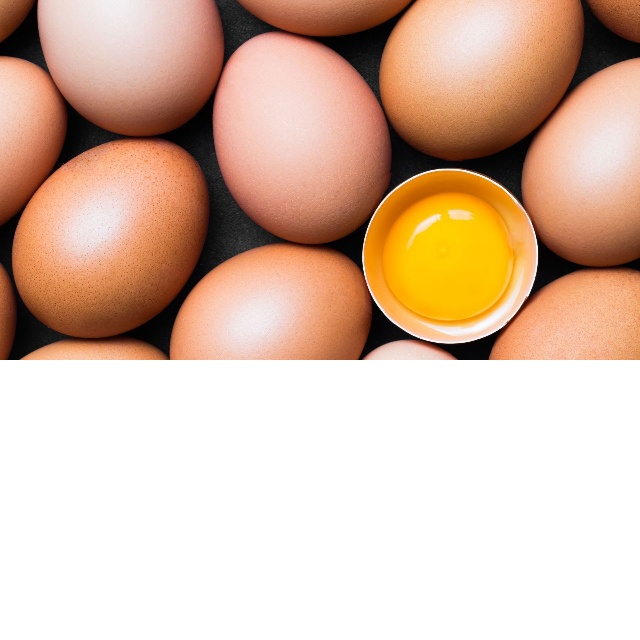mit: (6, 133, 211, 340), (208, 29, 393, 249), (376, 2, 584, 164), (33, 1, 227, 141), (517, 52, 640, 268), (168, 238, 375, 360)
